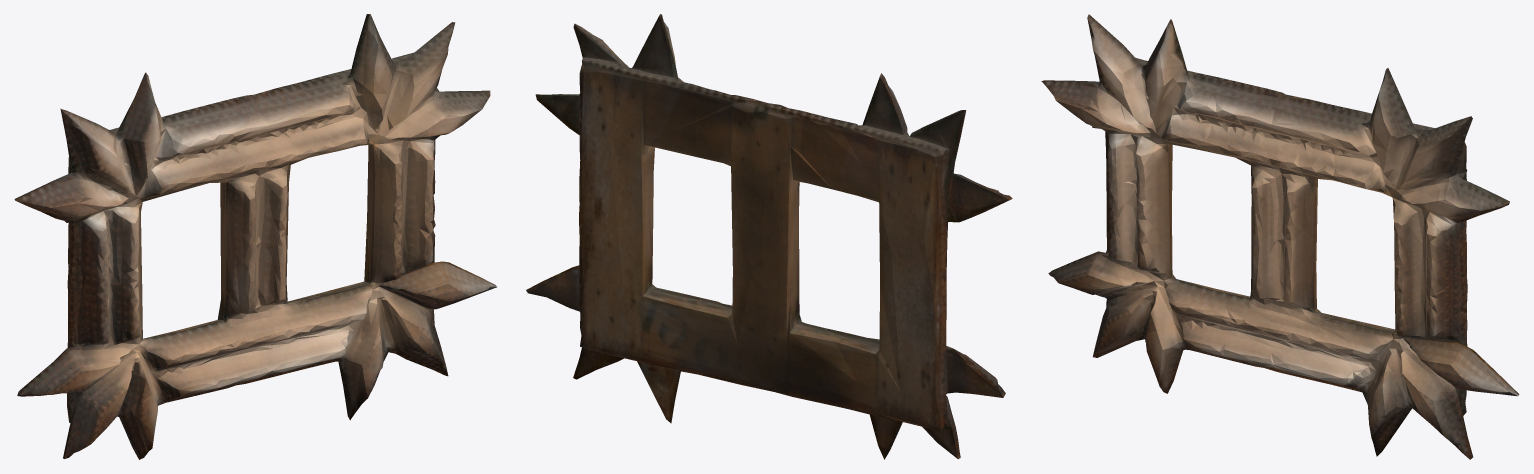
File: 07BFA8F0-7ED8-0F4A-AE7B-BB147A7D98AD_512.glb
3 renders of one model, left to right at view 1: azimuth 30°, elevation 25°; view 2: azimuth 150°, elevation 25°; view 3: azimuth 330°, elevation 25°, orthographic. The views are drawn at different scales.
Visible parts, largest first — view 1: Bilderrahmen 1_4k_0.5k, Bilderrahmen 1_Ecke_0.1k_0.5k; view 2: Bilderrahmen 1_4k_0.5k, Bilderrahmen 1_Ecke_0.1k_0.5k; view 3: Bilderrahmen 1_4k_0.5k, Bilderrahmen 1_Ecke_0.1k_0.5k.
Part boxes in pixels (box(x1,y1,x2,y2)): Bilderrahmen 1_4k_0.5k: box(14, 14, 490, 459); Bilderrahmen 1_Ecke_0.1k_0.5k: box(379, 261, 496, 309); Bilderrahmen 1_4k_0.5k: box(535, 14, 1012, 459); Bilderrahmen 1_Ecke_0.1k_0.5k: box(526, 265, 579, 311); Bilderrahmen 1_4k_0.5k: box(1041, 14, 1509, 459); Bilderrahmen 1_Ecke_0.1k_0.5k: box(1403, 338, 1519, 396).
Size of the model in its own units: 0.3665 by 0.2926 by 0.0309.
2 materials, 2 textured.
